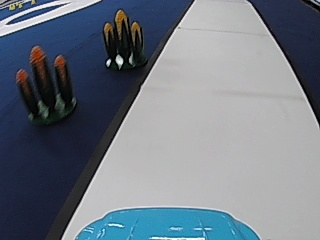corn: (16, 44, 79, 127), (100, 6, 148, 69)
